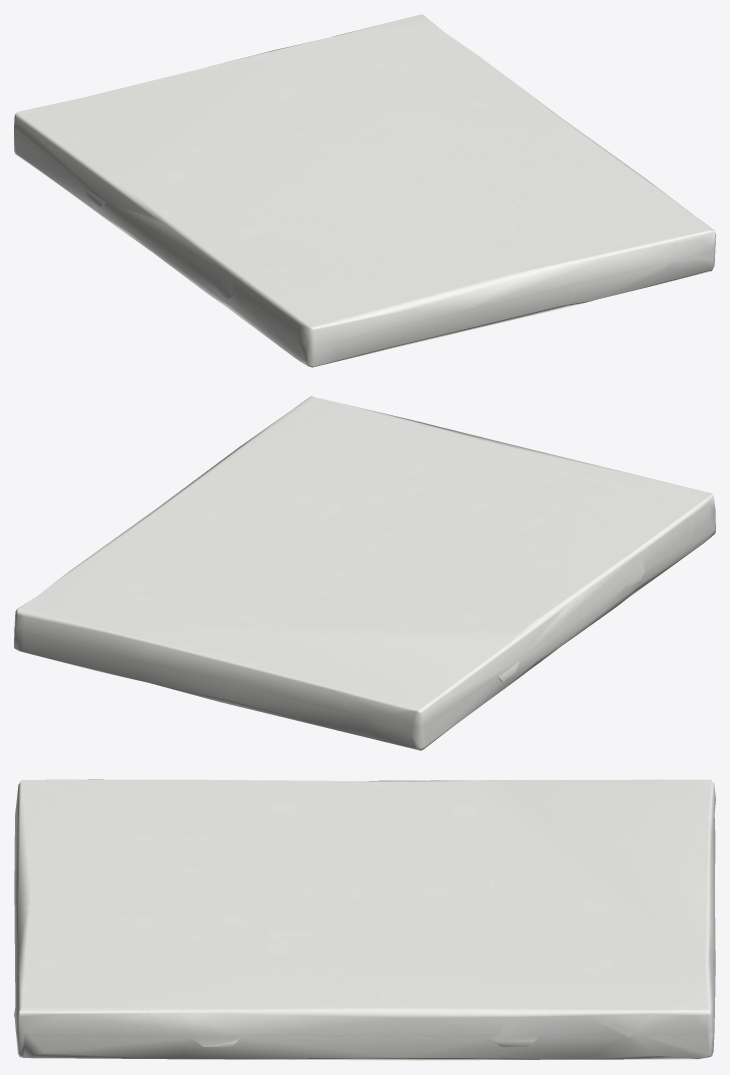
The picture shows the model from 3 angles, top to bottom: view 1: azimuth 30°, elevation 25°; view 2: azimuth 150°, elevation 25°; view 3: azimuth 270°, elevation 25°; orthographic projection. The views are drawn at different scales.
Visible parts, largest first — view 1: model; view 2: model; view 3: model.
Part boxes in pixels (x1,y1,x2,y2): model: (14, 14, 715, 367); model: (14, 396, 715, 750); model: (14, 779, 715, 1060).
Size of the model in its own units: 1.6 by 0.1599 by 2.
1 material, 1 textured.
